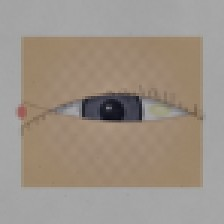pinguecula_lesion: (138, 92, 183, 128)
